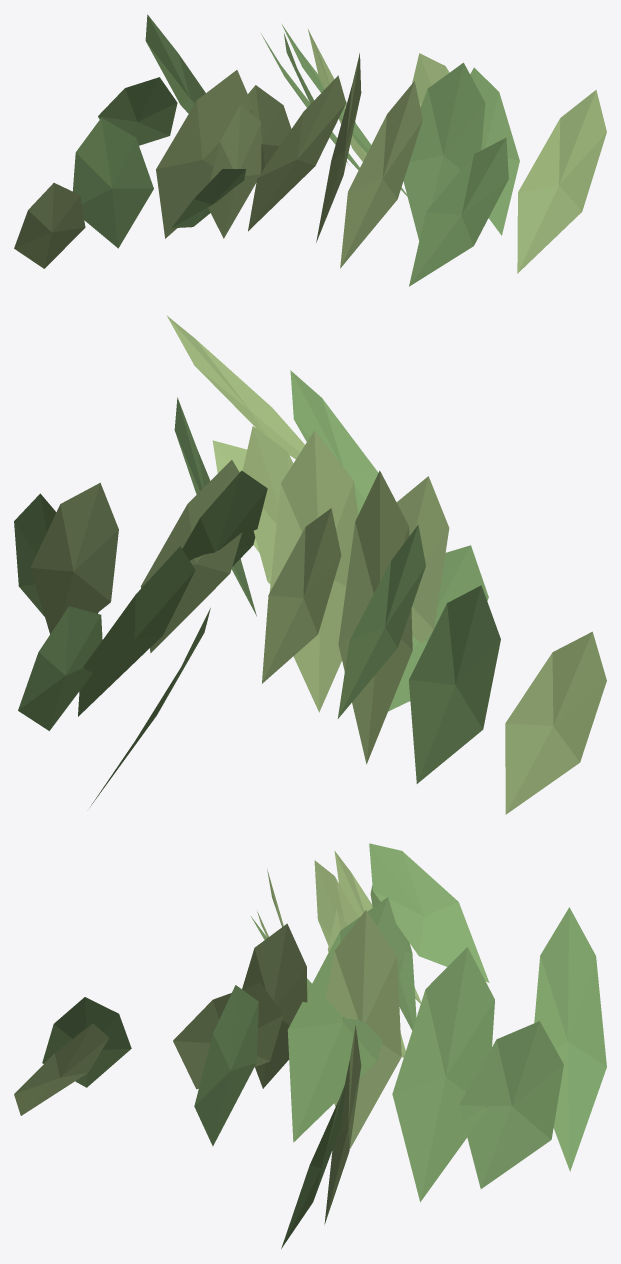
The model's file is herb_patch_b.glb.
3 renders of one model, top to bottom at view 1: azimuth 30°, elevation 25°; view 2: azimuth 150°, elevation 25°; view 3: azimuth 270°, elevation 25°, orthographic. The views are drawn at different scales.
Parts seen in each view (by area): view 1: herb_leaf_3, herb_leaf_4, herb_leaf_0, herb_leaf_6, herb_leaf_17, herb_leaf_5, herb_leaf_13, herb_leaf_11, herb_leaf_7, herb_leaf_8, herb_leaf_2, herb_leaf_14 (+7 smaller); view 2: herb_leaf_0, herb_leaf_11, herb_leaf_13, herb_leaf_17, herb_leaf_1, herb_leaf_15, herb_leaf_12, herb_leaf_8, herb_leaf_18, herb_leaf_9, herb_leaf_7, herb_leaf_10 (+8 smaller); view 3: herb_leaf_12, herb_leaf_14, herb_leaf_18, herb_leaf_10, herb_leaf_9, herb_leaf_8, herb_leaf_4, herb_leaf_19, herb_leaf_5, herb_leaf_3, herb_leaf_6, herb_leaf_1 (+4 smaller).
Boxes of the visible parts, x1,y1,x2,y2 form: herb_leaf_3: [517, 90, 606, 273]; herb_leaf_4: [403, 62, 485, 240]; herb_leaf_0: [72, 118, 153, 248]; herb_leaf_6: [409, 138, 508, 286]; herb_leaf_17: [156, 70, 253, 238]; herb_leaf_5: [340, 81, 422, 268]; herb_leaf_13: [248, 75, 345, 231]; herb_leaf_11: [14, 183, 85, 268]; herb_leaf_7: [208, 104, 261, 238]; herb_leaf_8: [98, 77, 177, 145]; herb_leaf_2: [470, 67, 519, 235]; herb_leaf_14: [145, 14, 205, 113]; herb_leaf_0: [408, 585, 500, 783]; herb_leaf_11: [505, 631, 606, 814]; herb_leaf_13: [269, 430, 358, 712]; herb_leaf_17: [338, 470, 412, 764]; herb_leaf_1: [30, 482, 118, 634]; herb_leaf_15: [262, 508, 341, 683]; herb_leaf_12: [78, 546, 195, 716]; herb_leaf_8: [337, 525, 425, 718]; herb_leaf_18: [18, 606, 102, 730]; herb_leaf_9: [140, 460, 241, 652]; herb_leaf_7: [397, 476, 449, 642]; herb_leaf_10: [182, 470, 267, 566]; herb_leaf_12: [392, 947, 494, 1202]; herb_leaf_14: [534, 907, 606, 1171]; herb_leaf_18: [459, 1021, 563, 1188]; herb_leaf_10: [287, 897, 404, 1142]; herb_leaf_9: [325, 910, 401, 1148]; herb_leaf_8: [369, 843, 489, 982]; herb_leaf_4: [194, 985, 258, 1146]; herb_leaf_19: [242, 923, 307, 1088]; herb_leaf_5: [173, 982, 283, 1089]; herb_leaf_3: [14, 1023, 109, 1115]; herb_leaf_6: [42, 997, 131, 1087]; herb_leaf_1: [324, 1025, 361, 1224].
Bounding box in the file's own units: 0.5172 × 0.2304 × 0.4857.
